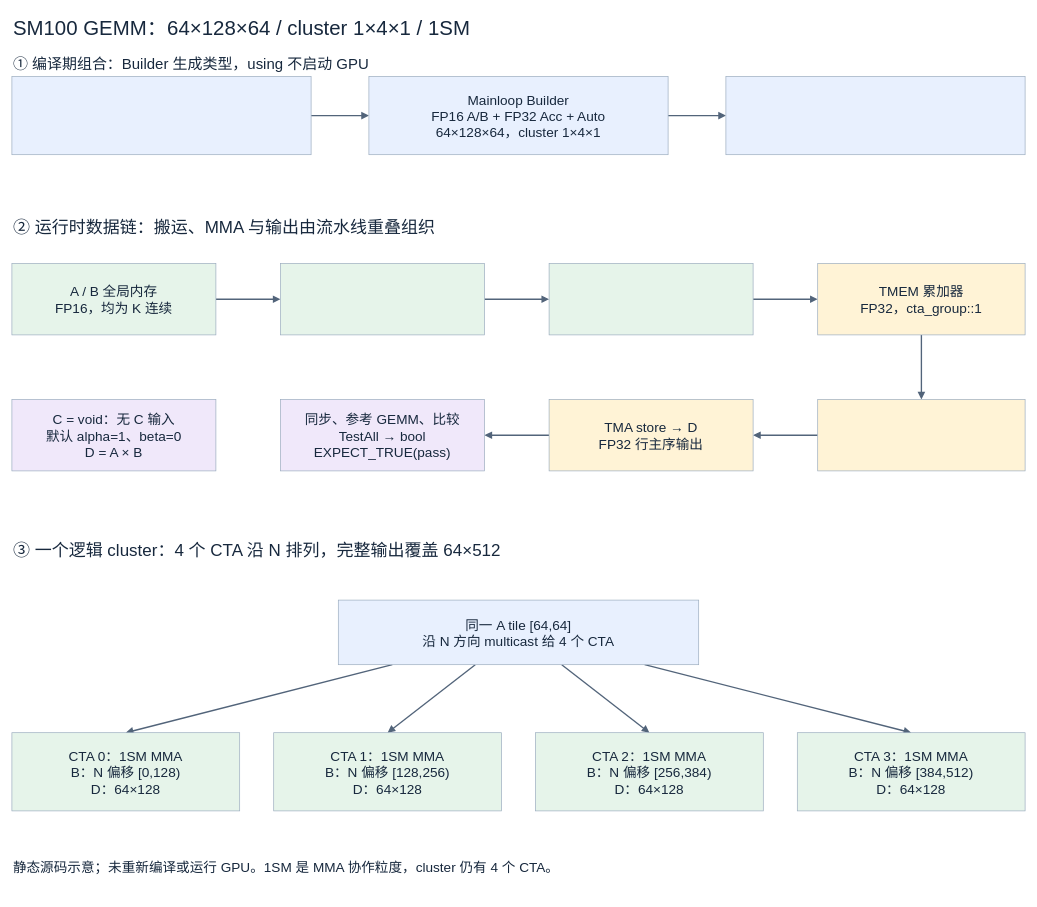
The diagram is 1037 pixels wide and 907 high, and some of its shapes have lost their labels. The shapes that lost their labels are listed below. From the top down, each one's centre as x and y in pixels, then its label:
At (161,115): "Epilogue Builder FP32 线性组合 → CollectiveEpilogue SharedStorage 用于主循环 SMEM 预算".
At (875,115): "GemmUniversal → Adapter 问题形状 (M,N,K,L) TestAll 提供运行时尺寸与参数".
At (382,299): "TMA → SMEM stage A 可向四个 CTA multicast".
At (650,299): "UMMA / tcgen05.mma Atom：64×128×16 每个完整 TileK 包含 4 次".
At (921,435): "TMEM load → 寄存器 alpha × Acc → epilogue SMEM".
